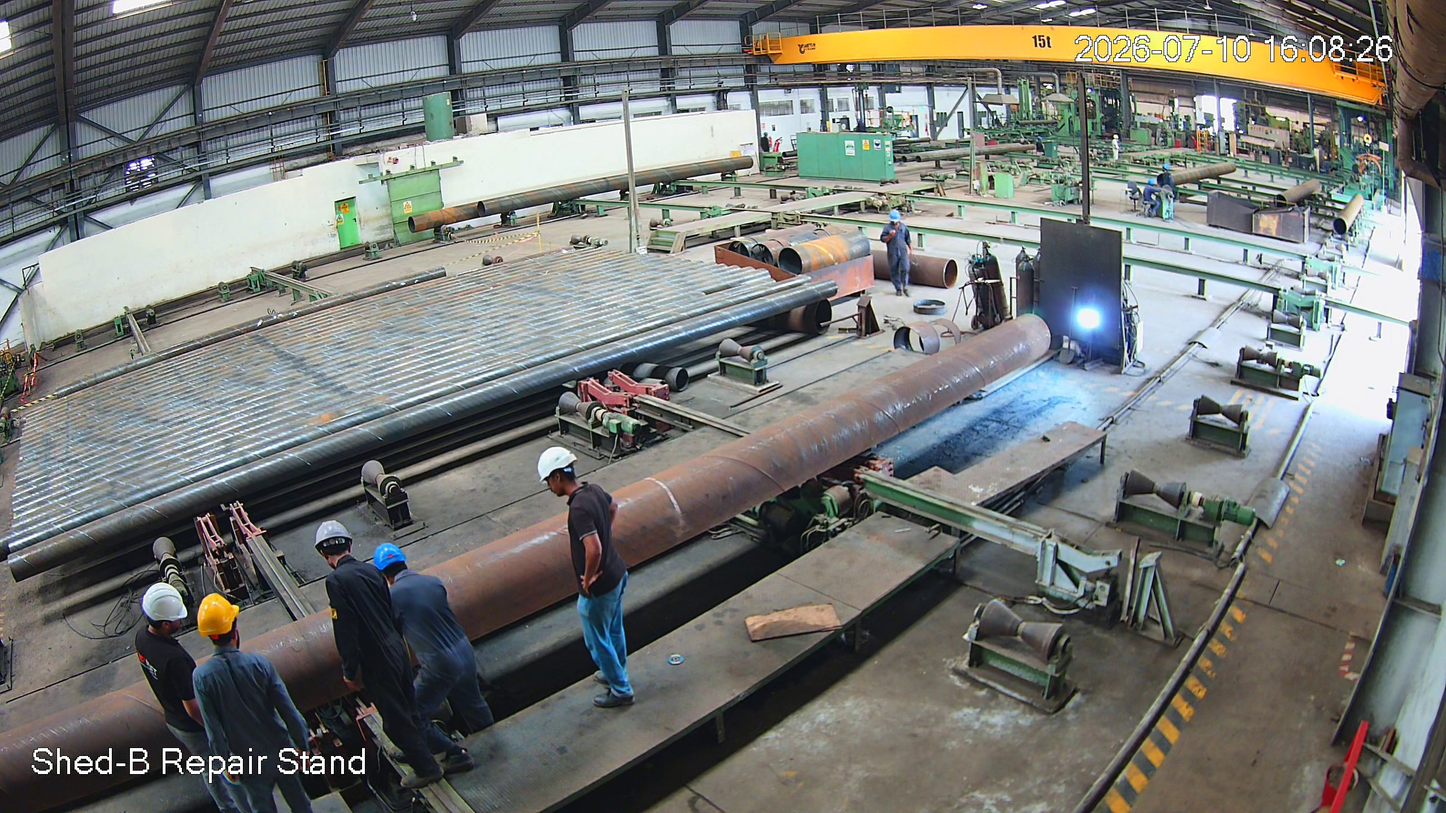Helmet: (128, 580, 207, 655), (310, 514, 369, 600), (185, 590, 255, 661), (531, 448, 594, 516), (371, 535, 428, 592)
Person: (309, 524, 440, 812), (527, 456, 639, 731), (184, 598, 318, 813), (374, 539, 498, 761), (121, 588, 208, 813)
